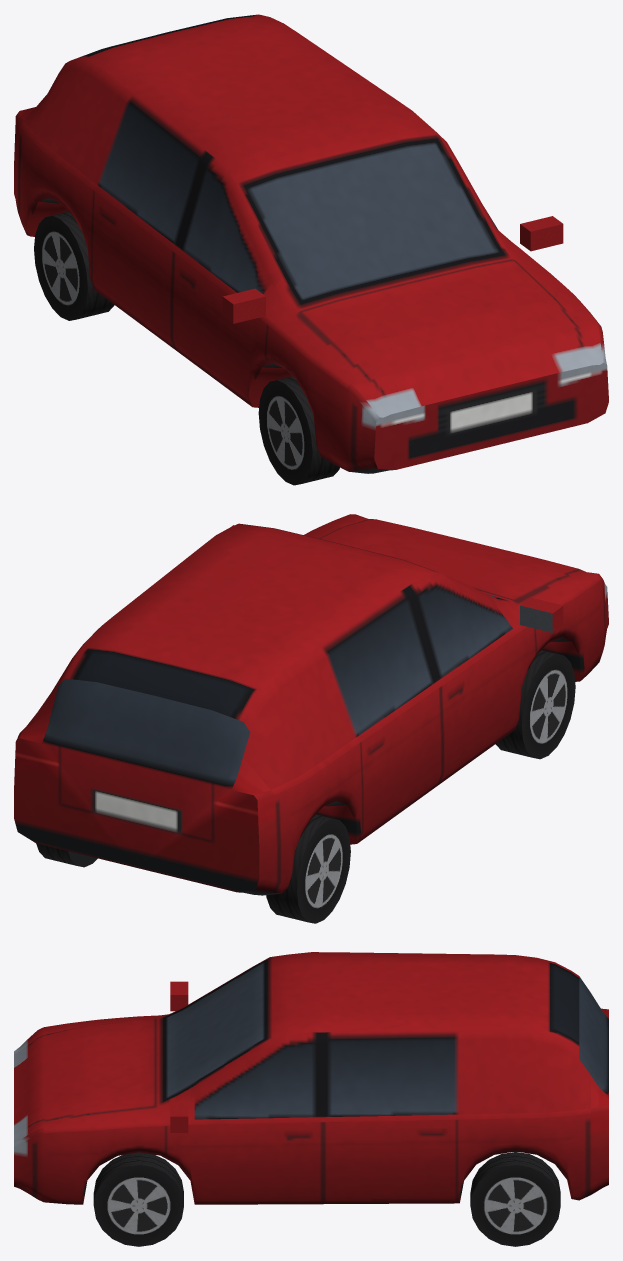
Rendered from SM_Morin_Auto_A_Col_v2_Rosso.fbx.
The picture shows the model from 3 angles, top to bottom: view 1: azimuth 30°, elevation 25°; view 2: azimuth 150°, elevation 25°; view 3: azimuth 270°, elevation 25°; orthographic projection. The views are drawn at different scales.
Visible parts, largest first — view 1: SM_Morin_Auto_A_Col_v2_Rosso; view 2: SM_Morin_Auto_A_Col_v2_Rosso; view 3: SM_Morin_Auto_A_Col_v2_Rosso.
Boxes of the visible parts, x1,y1,x2,y2 form: SM_Morin_Auto_A_Col_v2_Rosso: (14, 14, 608, 485); SM_Morin_Auto_A_Col_v2_Rosso: (14, 514, 608, 923); SM_Morin_Auto_A_Col_v2_Rosso: (14, 952, 608, 1246).
Size of what is drawn, in the model's own units: 212 by 395 by 150.
1 material, 1 textured.
